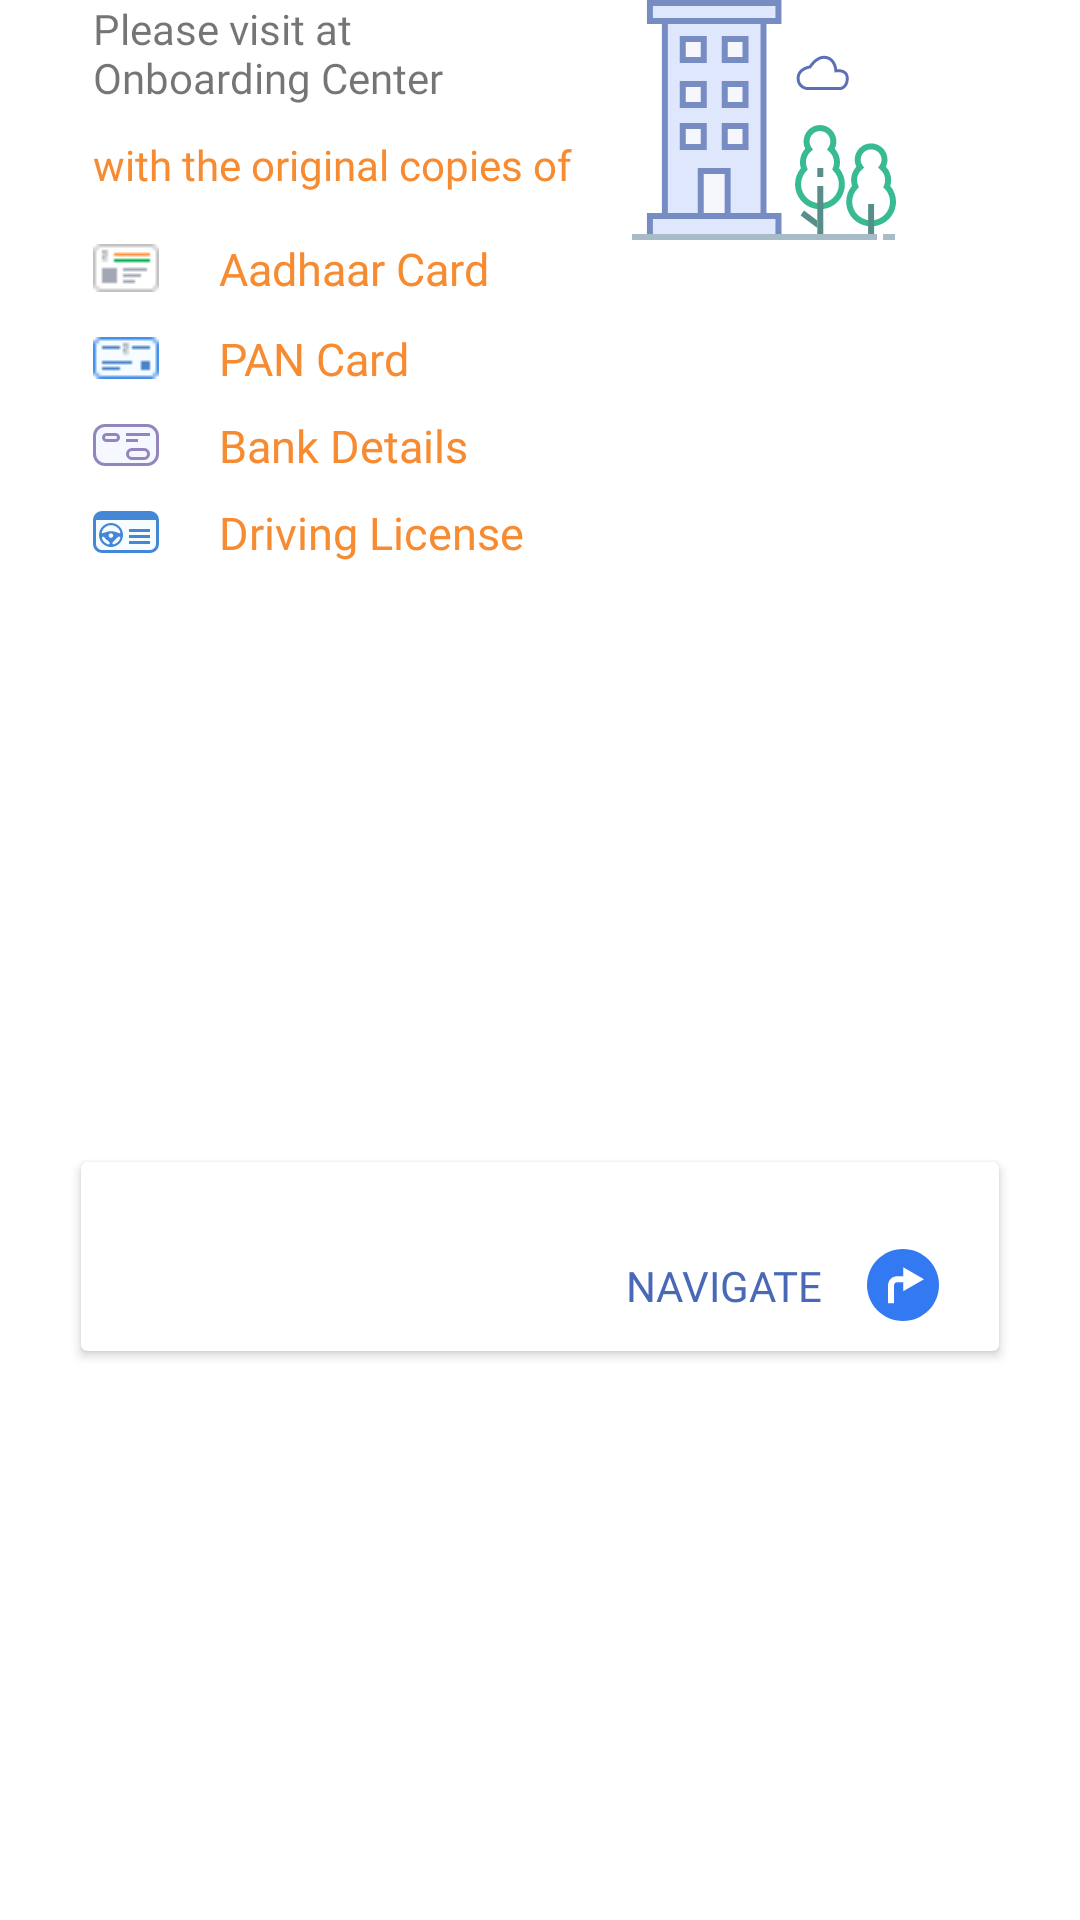

Icon click points for this 1080px×1920px phone screenshot, format [x,y]:
aadhar: [126,268]
direction: [903,1285]
panicon: [126,358]
